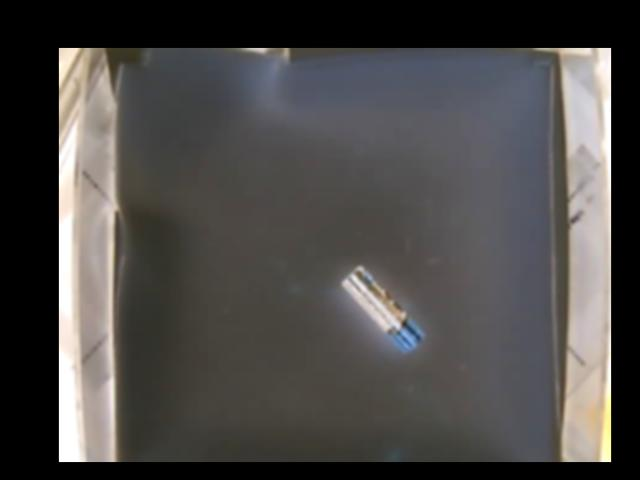Battery: (342, 265, 428, 351)
